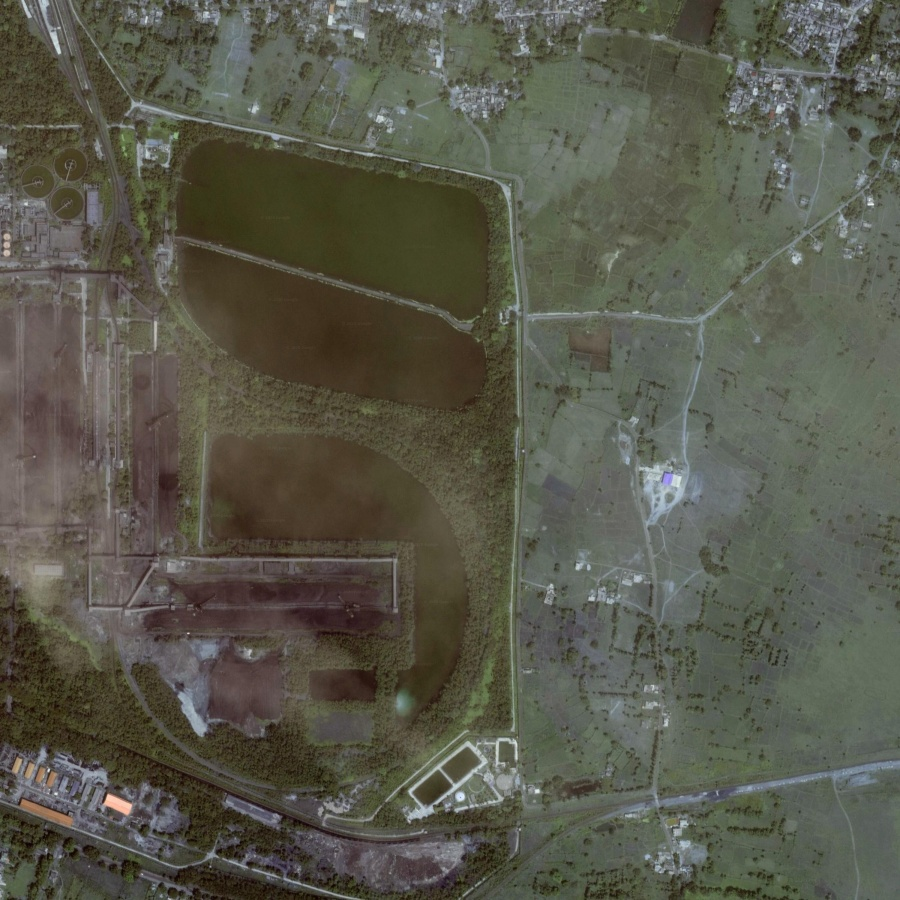PowerPlant: (124, 556, 408, 742)
